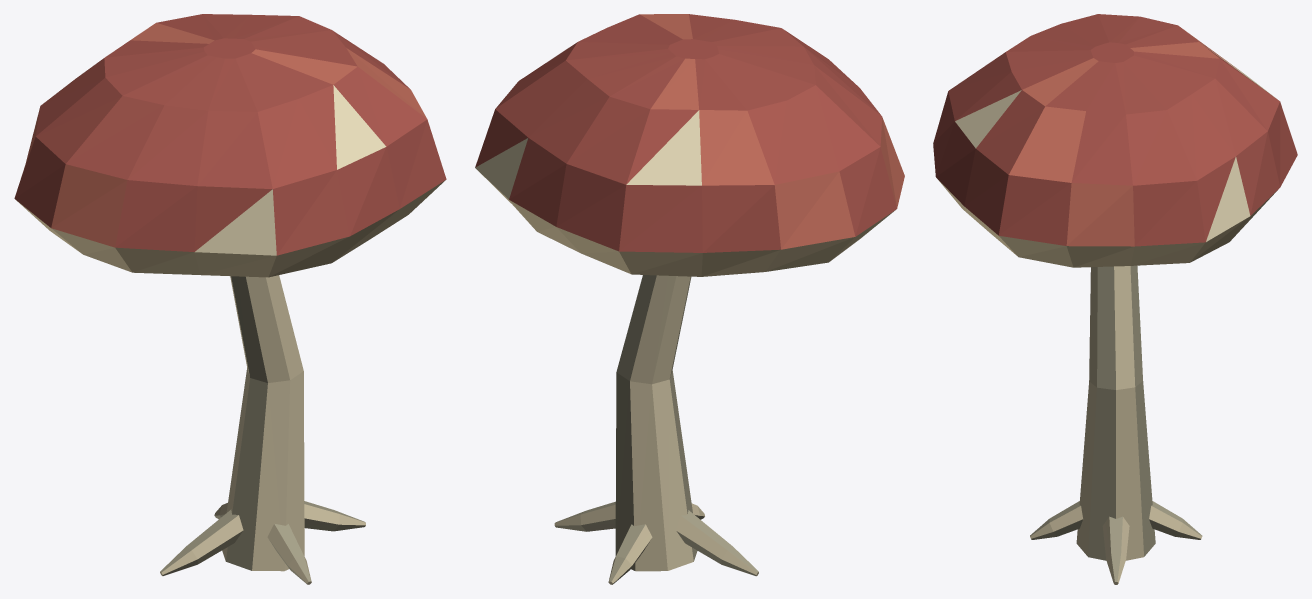
The model's file is AE_Mushroom_RedParasol.fbx.
3 renders of one model, left to right at view 1: azimuth 30°, elevation 25°; view 2: azimuth 150°, elevation 25°; view 3: azimuth 270°, elevation 25°, orthographic. The views are drawn at different scales.
Parts seen in each view (by area): view 1: AE_Mushroom_RedParasol; view 2: AE_Mushroom_RedParasol; view 3: AE_Mushroom_RedParasol.
Part boxes in pixels (left/top/right/bottom): AE_Mushroom_RedParasol: left=14, top=14, right=446, bottom=584; AE_Mushroom_RedParasol: left=475, top=14, right=904, bottom=584; AE_Mushroom_RedParasol: left=933, top=14, right=1297, bottom=584.
Bounding box in the file's own units: 1.57 × 2.1 × 1.46.
